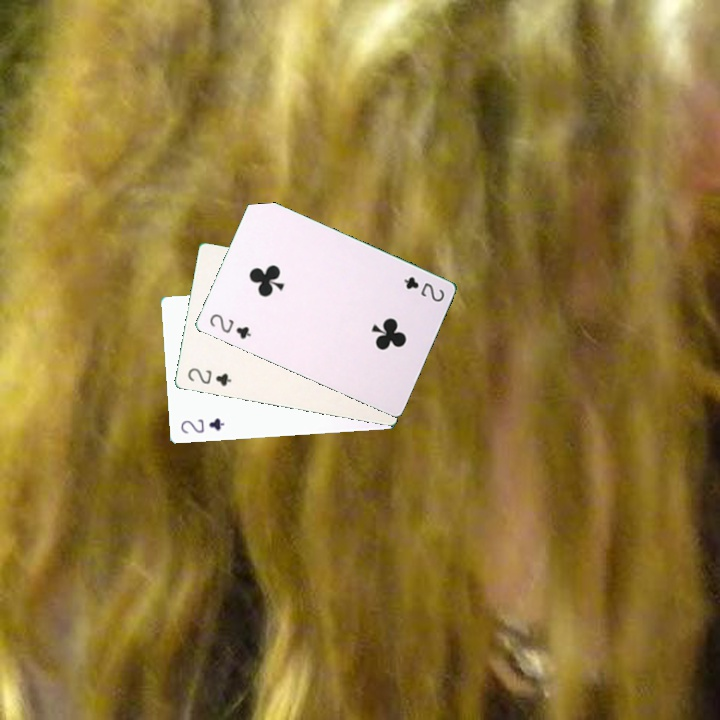2c: (205, 309, 254, 342), (400, 273, 447, 305), (184, 364, 234, 389), (177, 414, 227, 436)
